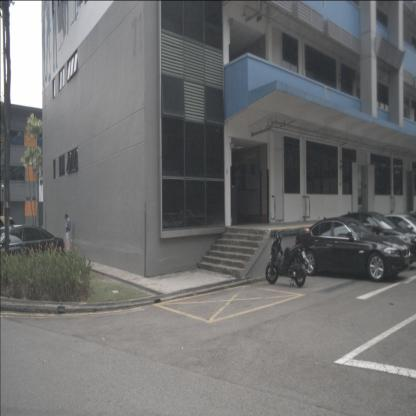human-pedestrian-adult: (63, 214, 71, 257)
vehicle-car: (295, 218, 411, 282), (325, 211, 416, 273), (0, 225, 65, 276), (370, 213, 415, 254), (161, 212, 188, 232), (177, 208, 204, 226)
vehicle-motorcycle: (265, 228, 311, 287)
